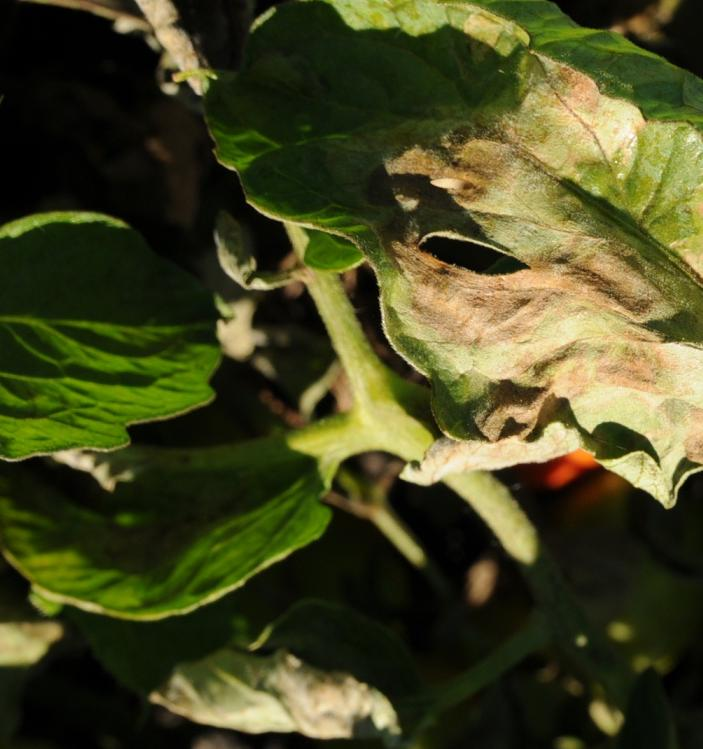Tomato leaf late blight: (224, 0, 703, 521)
